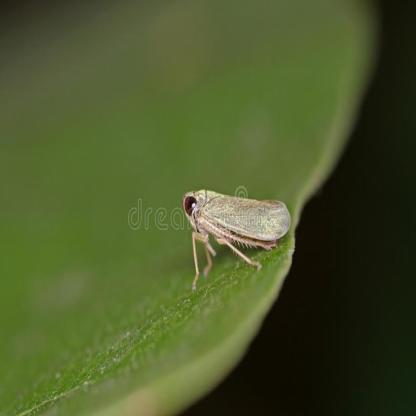Green-Leafhopper: (182, 187, 296, 289)
